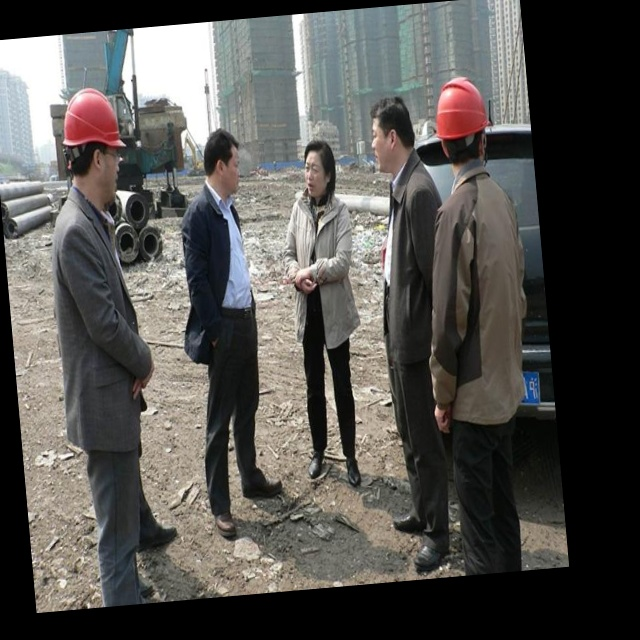Con_Casco: (58, 85, 128, 196), (430, 74, 492, 177)
Sin_Casco_Mascarrilla: (367, 96, 418, 174)
Sin_Chaleco: (422, 183, 536, 428), (285, 191, 357, 324), (179, 192, 255, 318)
